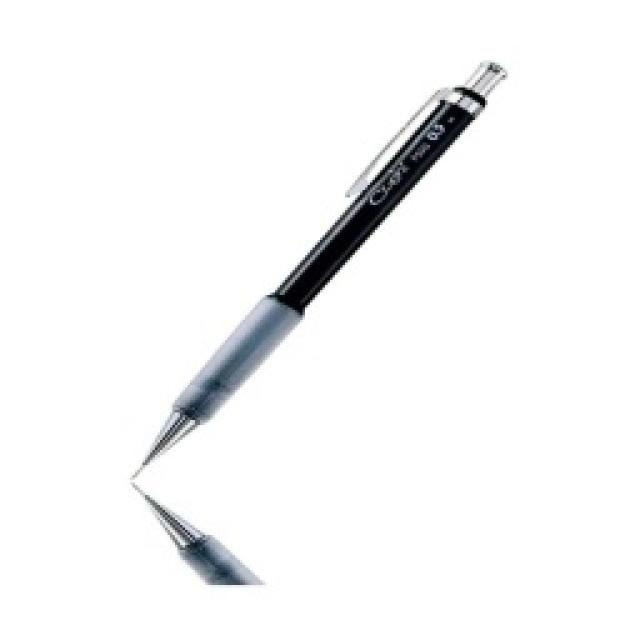pencil: (125, 55, 510, 587)
